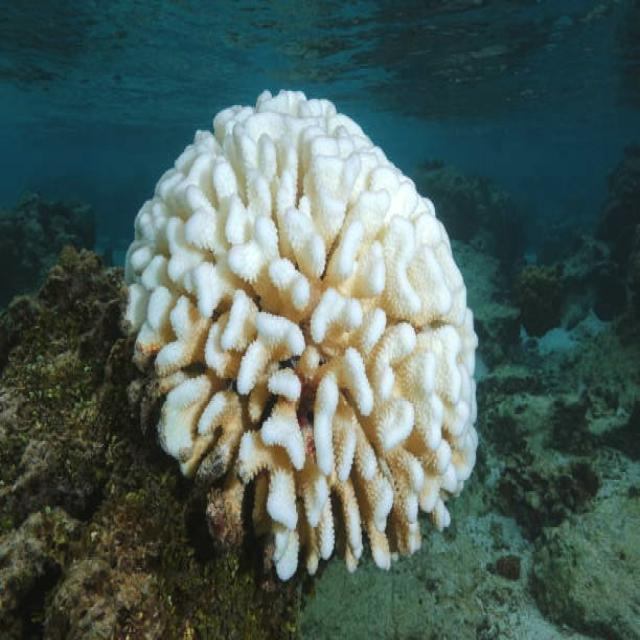Coral: (124, 87, 479, 580)
